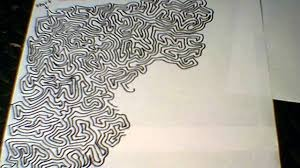maze: (16, 98, 107, 164), (34, 17, 110, 93), (116, 6, 196, 58)
